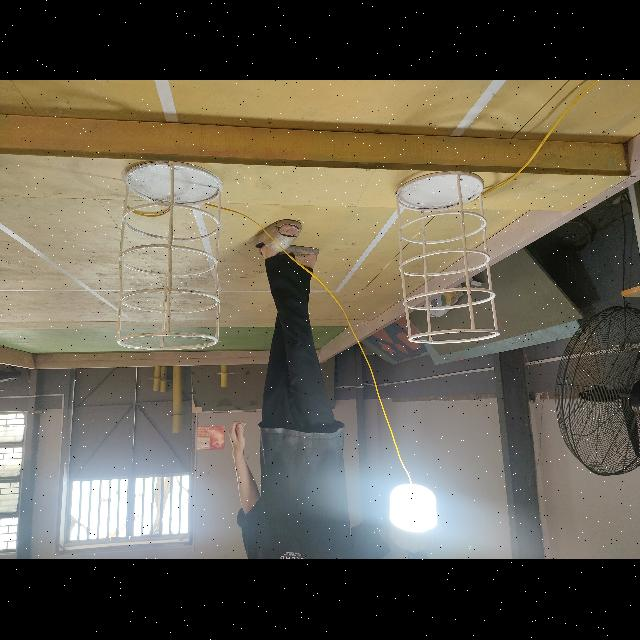S: (119, 156, 223, 358), (394, 168, 500, 348)
